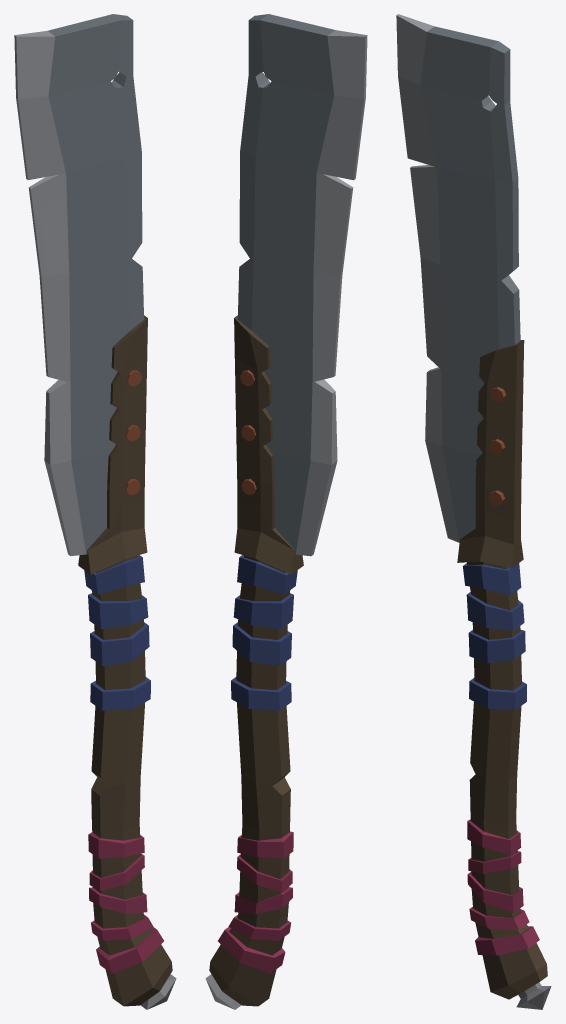
File: LongCleaver.glb
The picture shows the model from 3 angles, left to right: view 1: azimuth 30°, elevation 25°; view 2: azimuth 150°, elevation 25°; view 3: azimuth 330°, elevation 25°; orthographic projection. The views are drawn at different scales.
Parts seen in each view (by area): view 1: LongCleaver; view 2: LongCleaver; view 3: LongCleaver.
Part boxes in pixels (x1,y1,x2,y2): LongCleaver: (14, 14, 176, 1009); LongCleaver: (205, 14, 367, 1009); LongCleaver: (396, 14, 551, 1009).
Size of the model in its own units: 0.1918 by 1.17 by 0.0528.
Materials: 1 (1 with a texture image).
